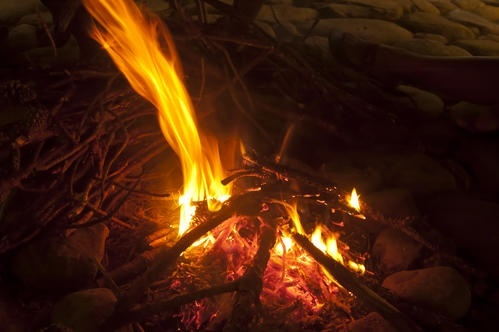fire: (81, 0, 239, 233), (267, 198, 367, 276)
